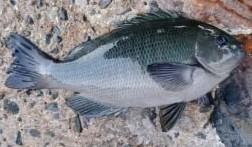fish: (3, 8, 247, 133)
